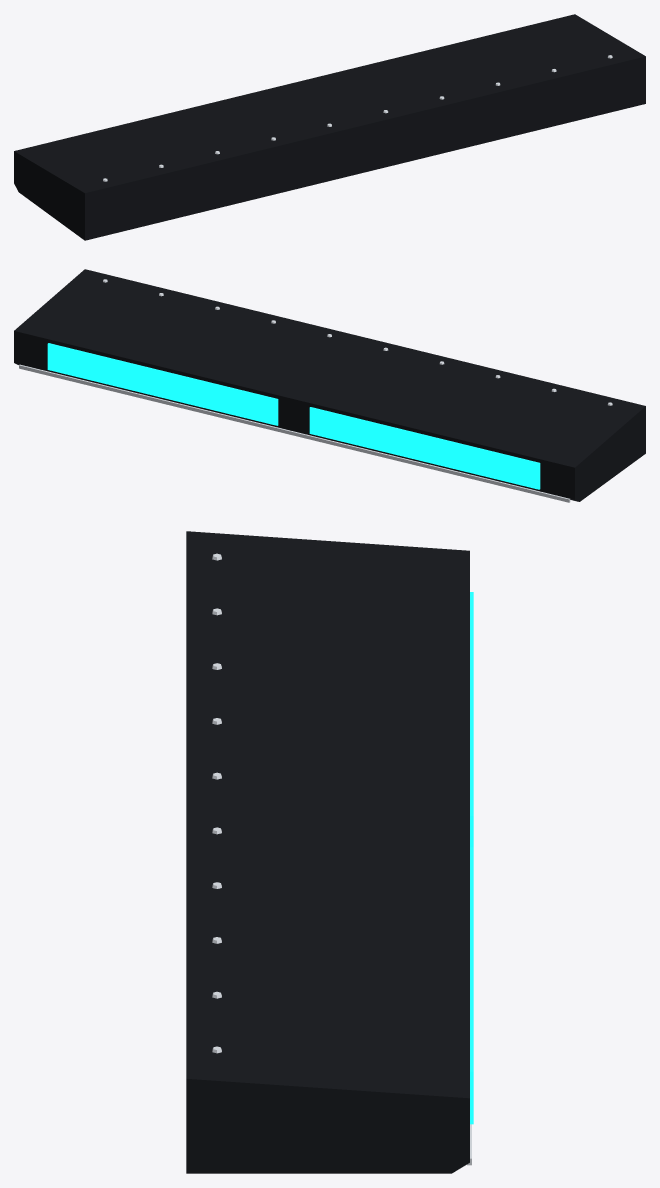
The model's file is visor_split_bars.glb.
The picture shows the model from 3 angles, top to bottom: view 1: azimuth 30°, elevation 25°; view 2: azimuth 150°, elevation 25°; view 3: azimuth 270°, elevation 25°; orthographic projection. The views are drawn at different scales.
Parts seen in each view (by area): view 1: visor_split_bars_deco_body; view 2: visor_split_bars_deco_body, visor_split_bars_deco_neon, visor_split_bars_chrome; view 3: visor_split_bars_deco_body, visor_split_bars_deco_neon.
Part boxes in pixels (x1,y1,x2,y2): visor_split_bars_deco_body: (14,14,645,240); visor_split_bars_deco_body: (14,269,645,501); visor_split_bars_deco_neon: (47,343,540,489); visor_split_bars_chrome: (19,279,612,502); visor_split_bars_deco_body: (186,531,469,1173); visor_split_bars_deco_neon: (470,592,473,1124).
Size of the model in its own units: 2.1 by 0.1755 by 0.466.
